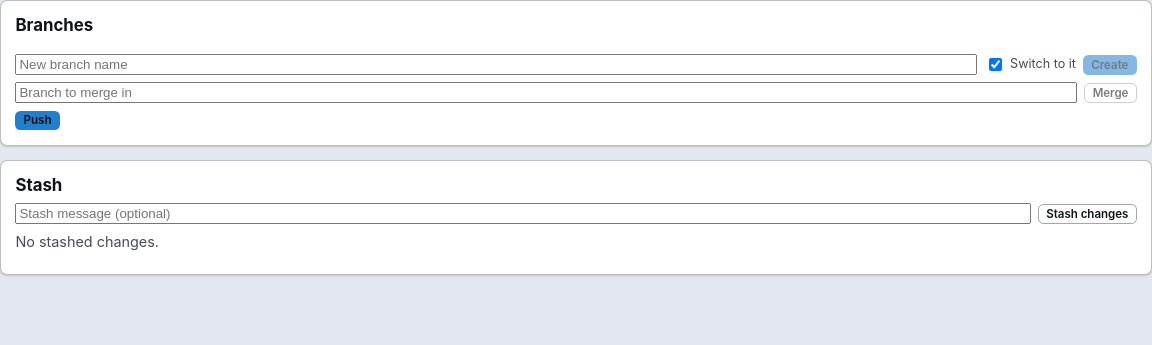
Test: GitBranchPanel: push (SPEC §7.6/§7.14; issue #235) › a no_branch outcome (detached HEAD) is reported distinctly, never as a generic error
Click the button with test id "git-branch-push-submit" at (38, 120), box x1=15 y1=111 x2=60 y2=130
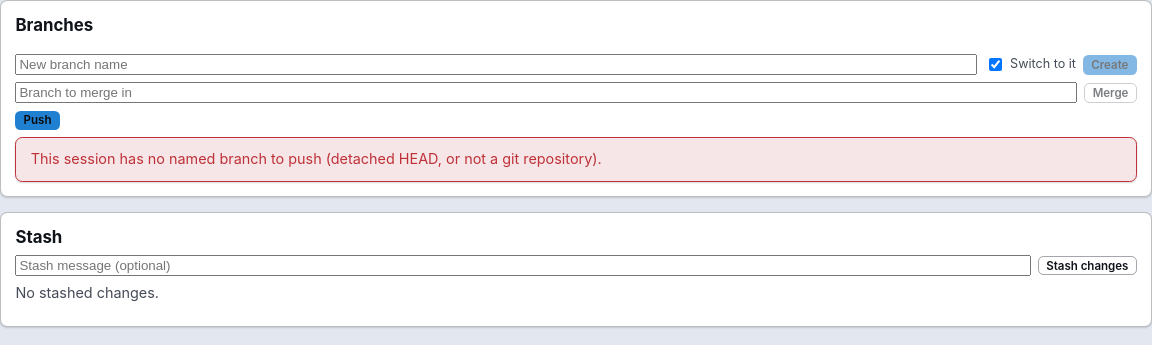
Expected: the text "This session has no named branch to push (detached HEAD, or not a git repository)." is shown, x1=31 y1=150 x2=602 y2=167
